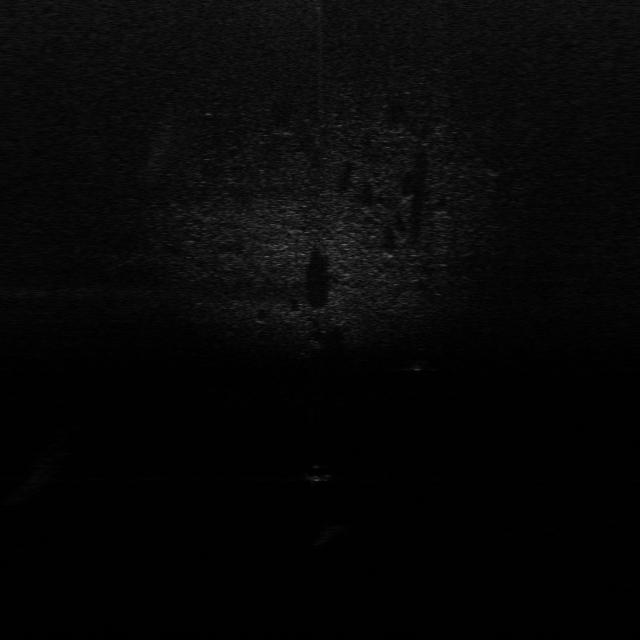ball: (298, 462, 338, 487)
square cage: (313, 523, 361, 549)
tyre: (410, 343, 436, 373)
